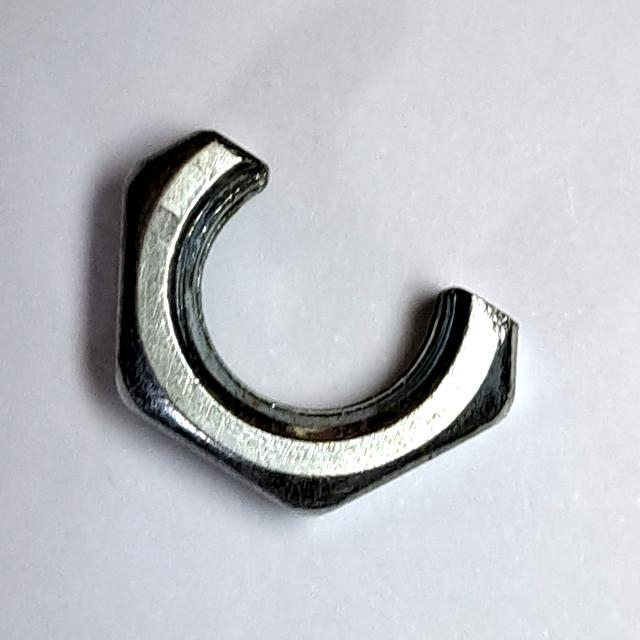Fracture: (98, 120, 536, 527)
